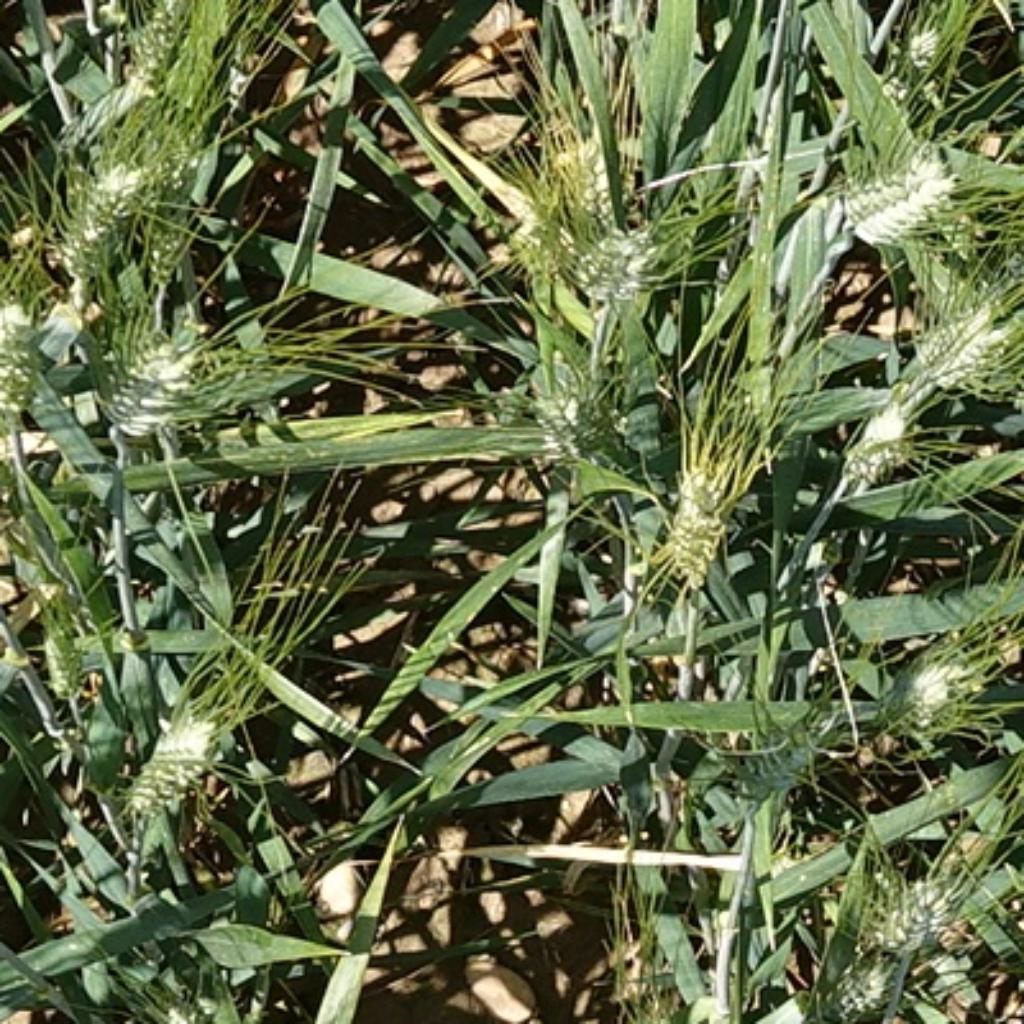0-0: (94, 312, 238, 455), (701, 683, 837, 806), (112, 688, 227, 826), (838, 124, 979, 234), (512, 358, 634, 481), (903, 286, 1024, 401), (844, 849, 965, 957), (555, 207, 665, 312), (524, 120, 624, 232), (655, 445, 737, 578), (56, 153, 151, 261), (796, 934, 908, 1024), (877, 644, 974, 739), (840, 386, 930, 475), (878, 5, 970, 84), (2, 294, 43, 453), (125, 0, 191, 79), (151, 975, 250, 1024), (47, 600, 91, 692), (155, 220, 185, 289)
